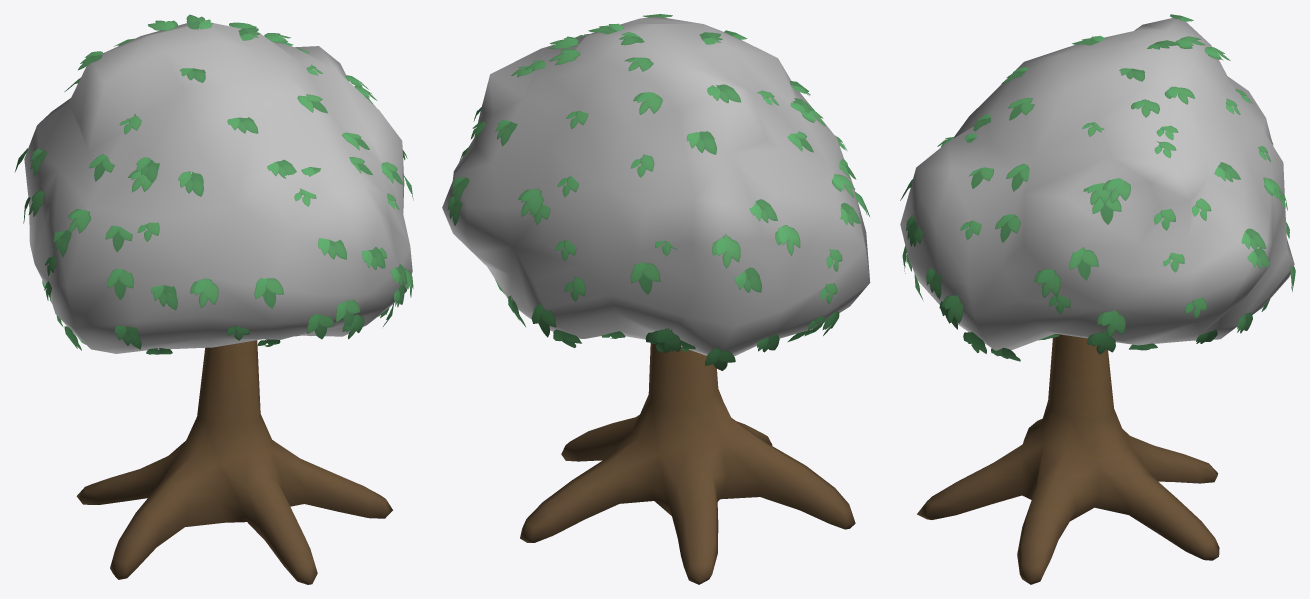
Rendered from Tree2.fbx.
3 views of the same model, side by side, from view 1: azimuth 30°, elevation 25°; view 2: azimuth 150°, elevation 25°; view 3: azimuth 270°, elevation 25° (orthographic). The views are drawn at different scales.
Visible parts, largest first — view 1: LOD2_copy2, Cylinder.004, LOD2_copy2|Leaf.002|Dupli|63, LOD2_copy2|Leaf.003|Dupli|54, LOD2_copy2|Leaf.002|Dupli|90; view 2: LOD2_copy2, Cylinder.004, LOD2_copy2|Leaf.002|Dupli|38, LOD2_copy2|Leaf.003|Dupli|42; view 3: LOD2_copy2, Cylinder.004, LOD2_copy2|Leaf.002|Dupli|93, LOD2_copy2|Leaf.003|Dupli|9, LOD2_copy2|Leaf.003|Dupli|96.
Boxes of the visible parts, box(x1,y1,x2,y2) form: LOD2_copy2: box(24, 22, 412, 353); Cylinder.004: box(76, 340, 392, 584); LOD2_copy2|Leaf.002|Dupli|63: box(254, 278, 283, 308); LOD2_copy2|Leaf.003|Dupli|54: box(190, 278, 218, 308); LOD2_copy2|Leaf.002|Dupli|90: box(107, 268, 133, 300); LOD2_copy2: box(442, 16, 870, 356); Cylinder.004: box(520, 343, 855, 584); LOD2_copy2|Leaf.002|Dupli|38: box(630, 262, 660, 294); LOD2_copy2|Leaf.003|Dupli|42: box(712, 234, 740, 268); LOD2_copy2: box(900, 18, 1294, 350); Cylinder.004: box(917, 334, 1219, 584); LOD2_copy2|Leaf.002|Dupli|93: box(1069, 247, 1098, 280); LOD2_copy2|Leaf.003|Dupli|9: box(1034, 268, 1060, 297); LOD2_copy2|Leaf.003|Dupli|96: box(1097, 310, 1125, 337).
Bounding box in the file's own units: 472 × 623 × 466.
